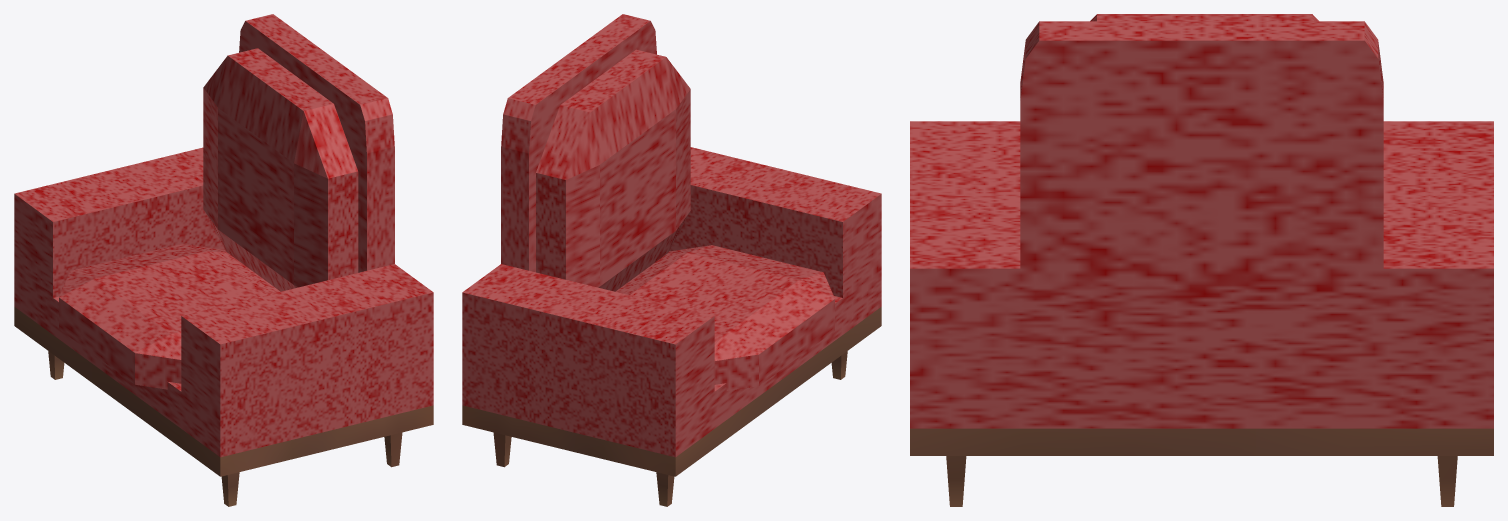
Rendered from CouchSmall.fbx.
3 renders of one model, left to right at view 1: azimuth 30°, elevation 25°; view 2: azimuth 150°, elevation 25°; view 3: azimuth 270°, elevation 25°, orthographic. The views are drawn at different scales.
Parts seen in each view (by area): view 1: CouchSmall; view 2: CouchSmall; view 3: CouchSmall.
Part boxes in pixels (left/top/right/bottom): CouchSmall: left=14, top=14, right=433, bottom=506; CouchSmall: left=462, top=14, right=881, bottom=506; CouchSmall: left=910, top=14, right=1493, bottom=506.
Size of the model in its own units: 135 by 187 by 206.
